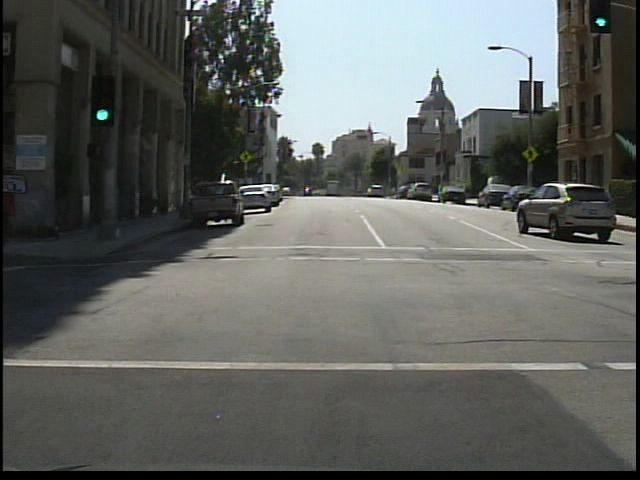person: (2, 160, 13, 247)
